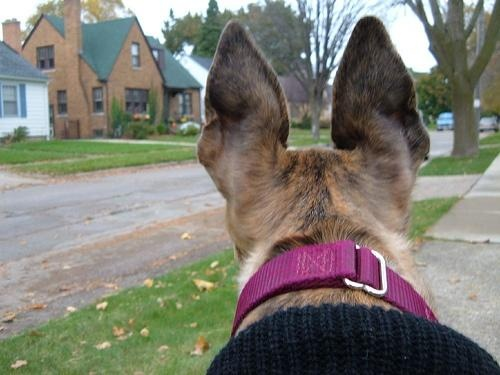dog: (196, 17, 440, 375)
